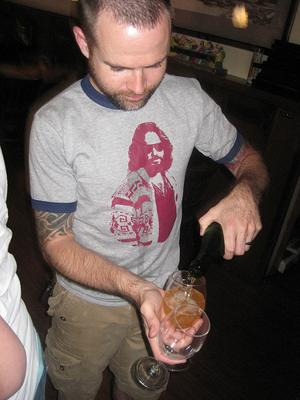person: (28, 2, 268, 398)
